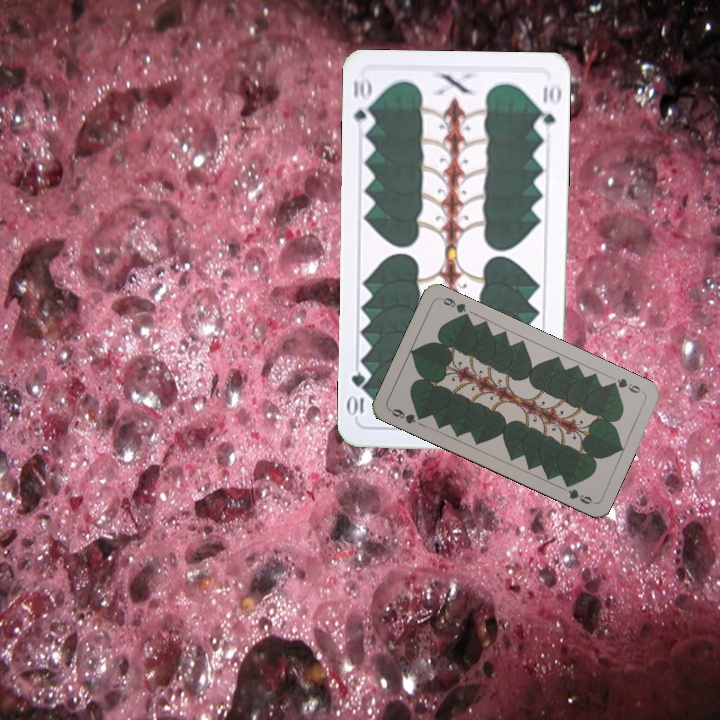G10: (349, 74, 376, 133)
G9: (386, 404, 427, 427), (605, 374, 646, 396)
